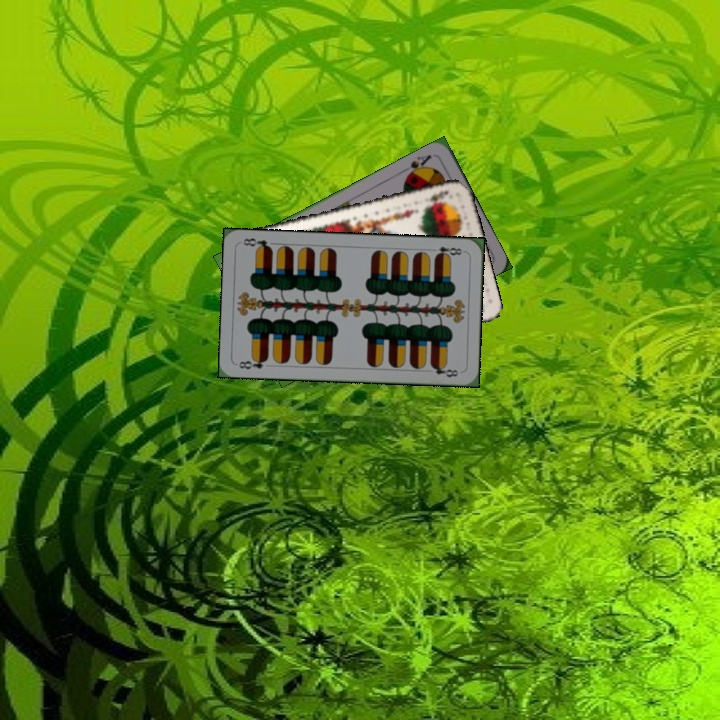E8: (427, 242, 467, 260), (235, 354, 271, 372)
SA: (402, 151, 434, 181)
SK: (421, 186, 451, 207)
